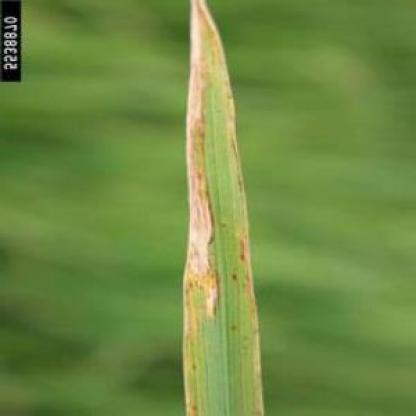Blight: (184, 1, 267, 416)
